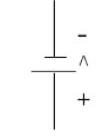Battery: (27, 26, 93, 111)
